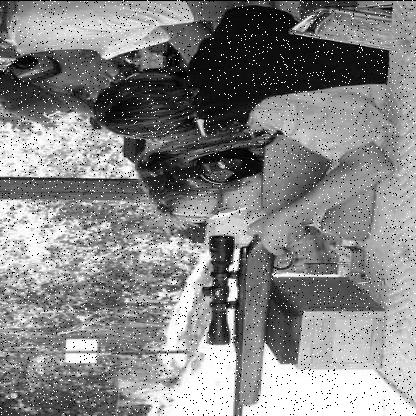rifle: (202, 120, 349, 416)
